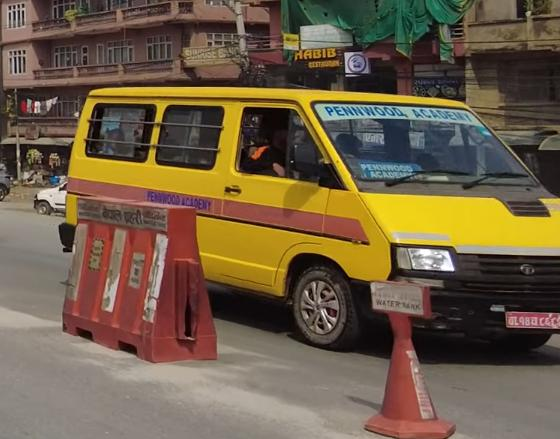school_bus: (61, 77, 560, 356)
